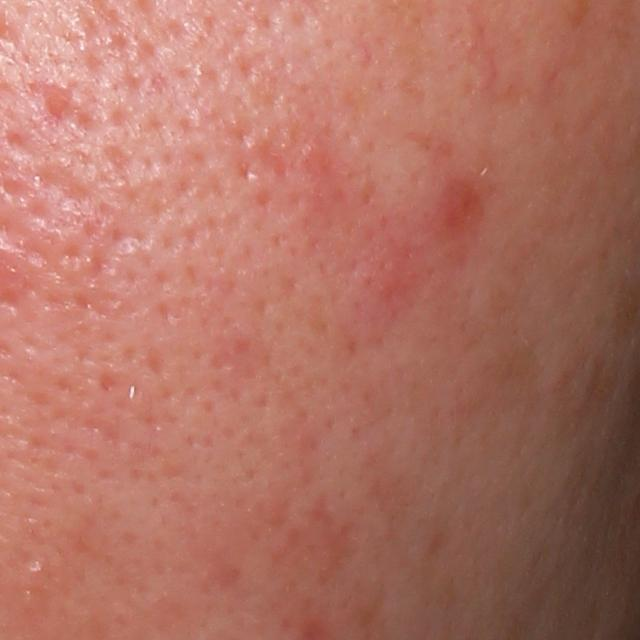atrophic_scar: (36, 85, 102, 147)
